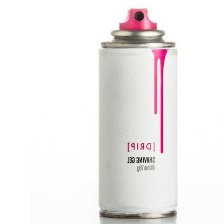aerosol_cans: (94, 4, 181, 221)
